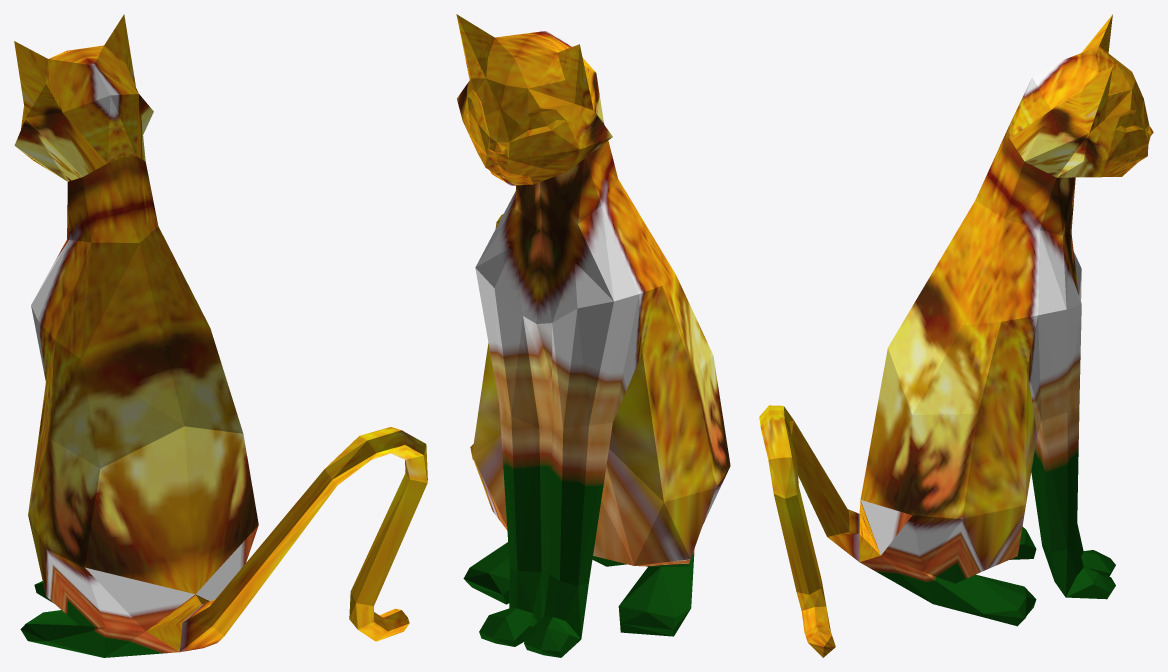
The model's file is icon.dat.obj.
The picture shows the model from 3 angles, left to right: view 1: azimuth 30°, elevation 25°; view 2: azimuth 150°, elevation 25°; view 3: azimuth 270°, elevation 25°; orthographic projection. The views are drawn at different scales.
Size of the model in its own units: 2.4 by 4.38 by 2.89.
